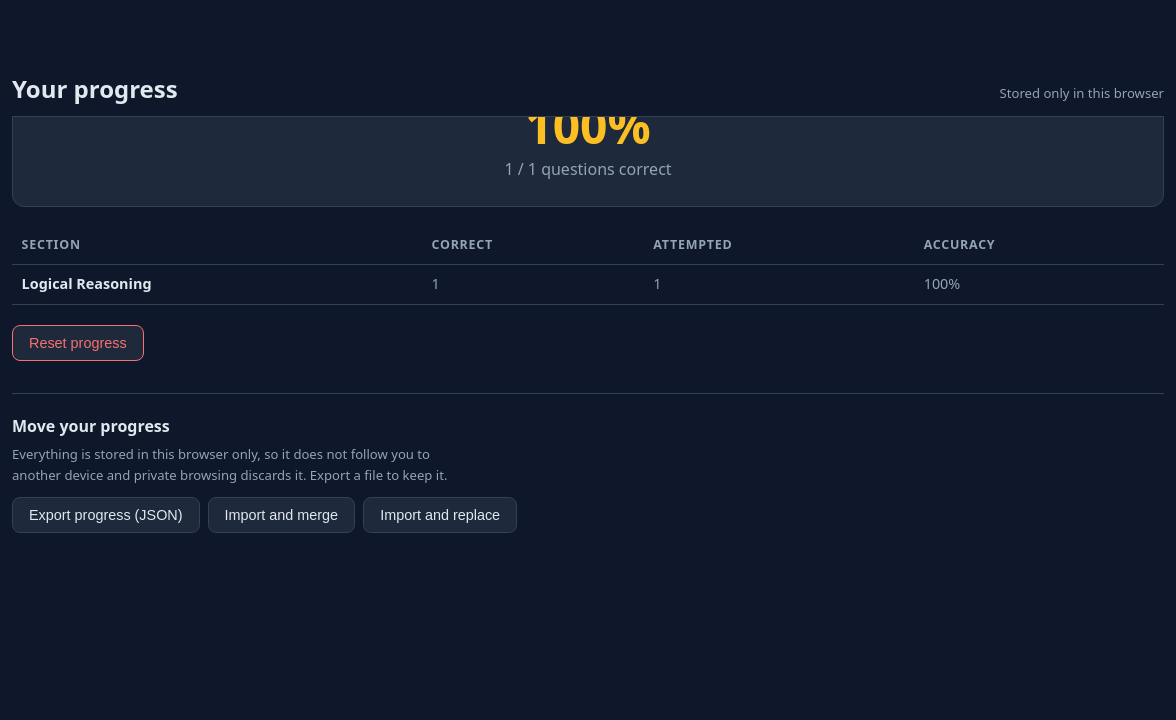
Test: Stats transfer › hands over a dated file and says what went into it
Click the button "Export progress (JSON)" at x=106, y=515, box [12,497,200,533]
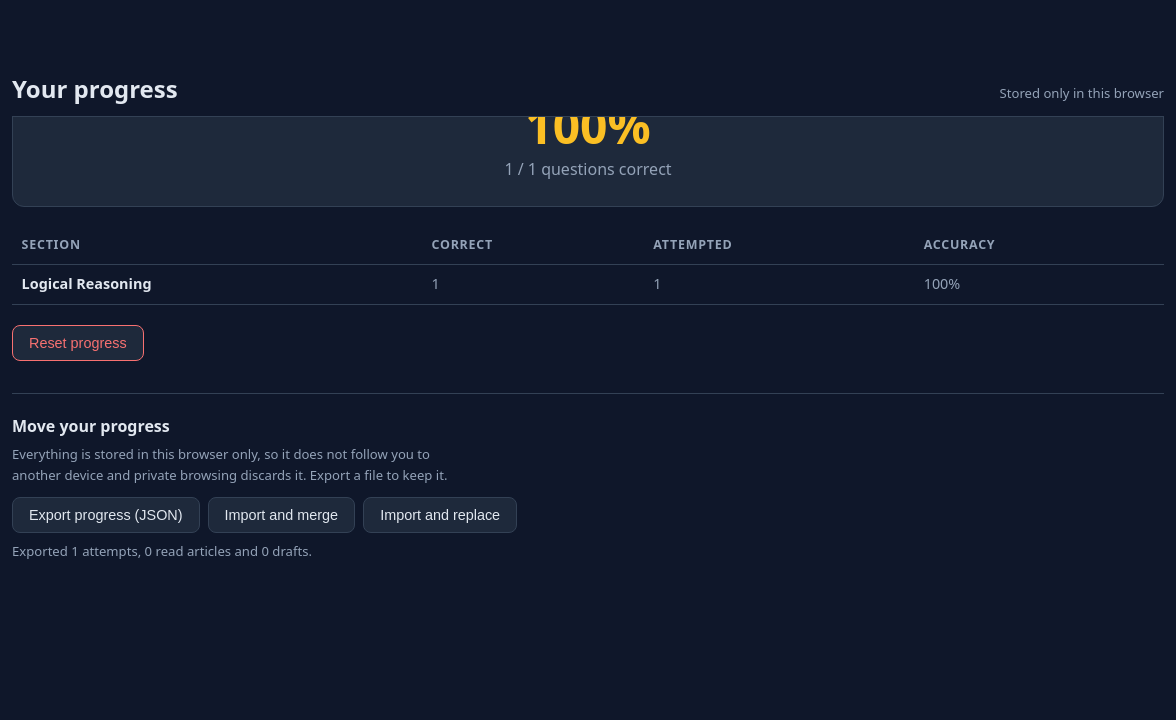
expect the message shows "Exported 1 attempts": met, box [12,542,312,560]
